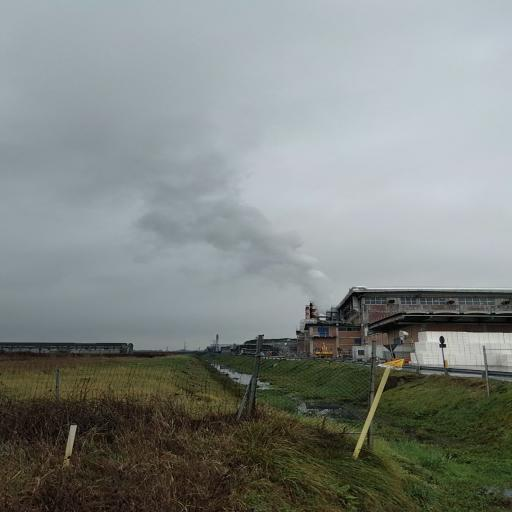leakage: (38, 121, 353, 314)
